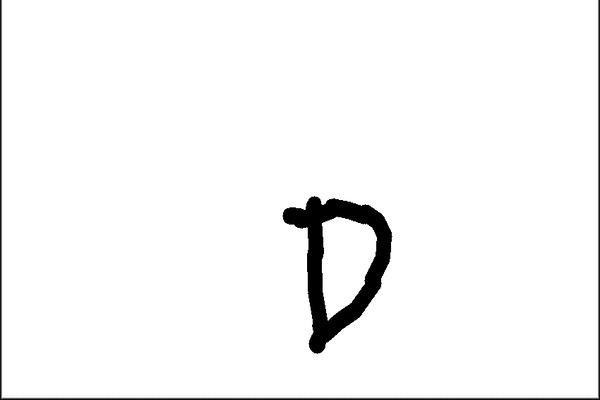D: (278, 189, 396, 356)
